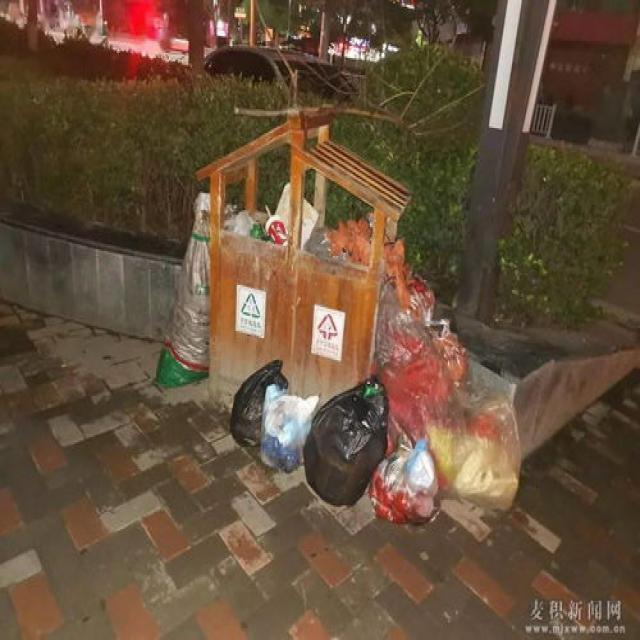garbage: (228, 278, 521, 524), (155, 189, 209, 386)
overflow: (193, 108, 412, 410)
